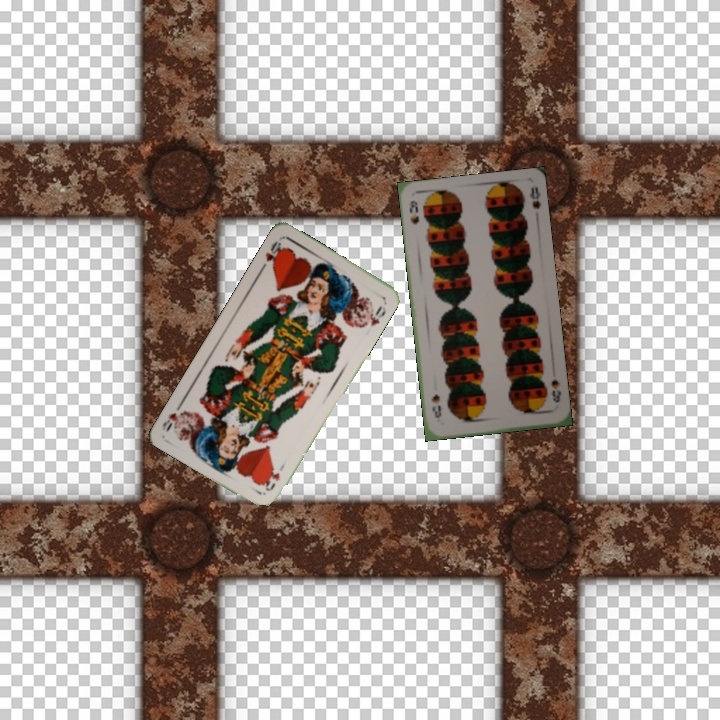HO: (257, 236, 287, 272), (261, 459, 288, 494)
S8: (405, 196, 421, 227), (547, 375, 563, 405)
